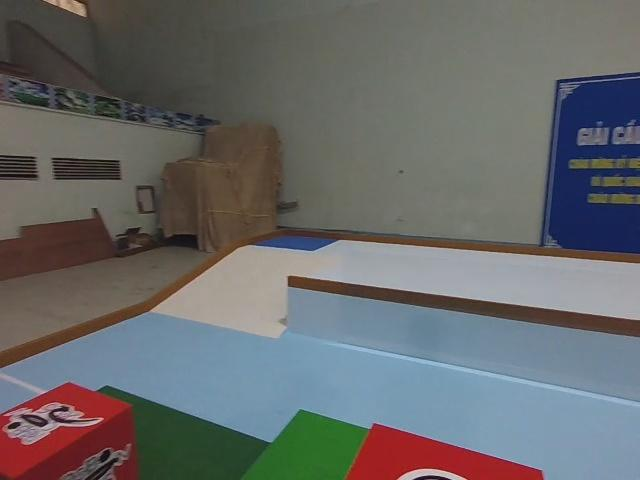R1: (0, 377, 139, 480)
